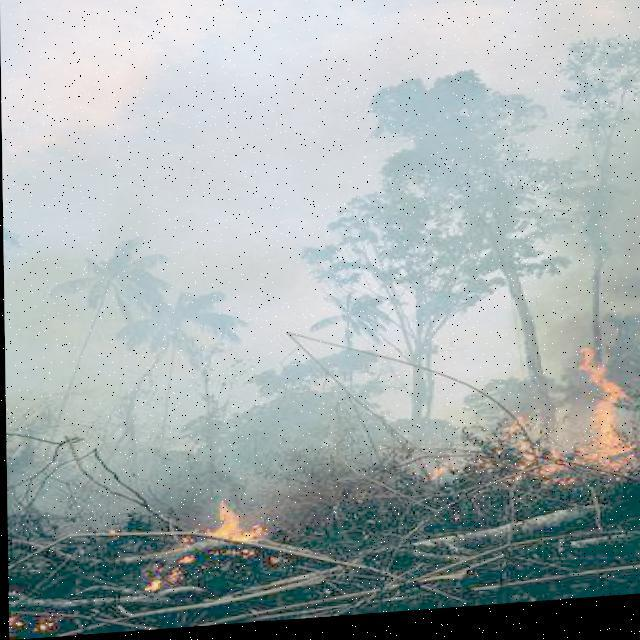Fire: (486, 344, 639, 503), (161, 503, 297, 612)
